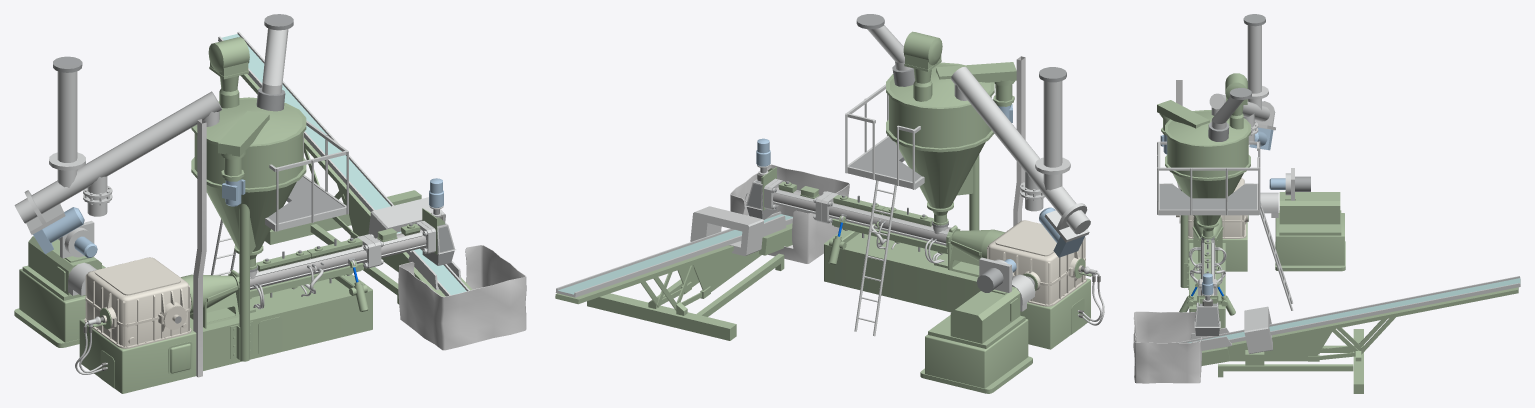
File: extruderFixed.fbx
The picture shows the model from 3 angles, left to right: view 1: azimuth 30°, elevation 25°; view 2: azimuth 150°, elevation 25°; view 3: azimuth 270°, elevation 25°; orthographic projection. The views are drawn at different scales.
Parts seen in each view (by area): view 1: ExtruderFullLine_2; view 2: ExtruderFullLine_2; view 3: ExtruderFullLine_2.
Boxes of the visible parts, box(x1,y1,x2,y2) form: ExtruderFullLine_2: box(14, 14, 526, 393); ExtruderFullLine_2: box(555, 14, 1104, 393); ExtruderFullLine_2: box(1133, 14, 1520, 393).
Bounding box in the file's own units: 63.81 × 39.56 × 61.46.
